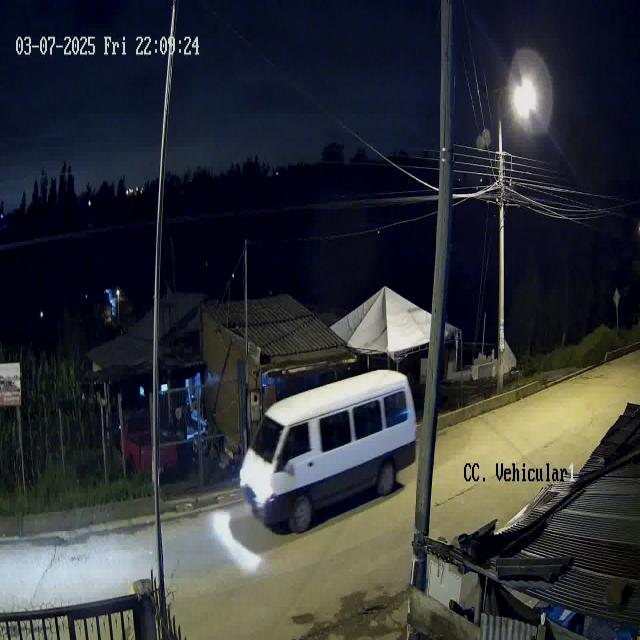BUS: (242, 368, 416, 548)
